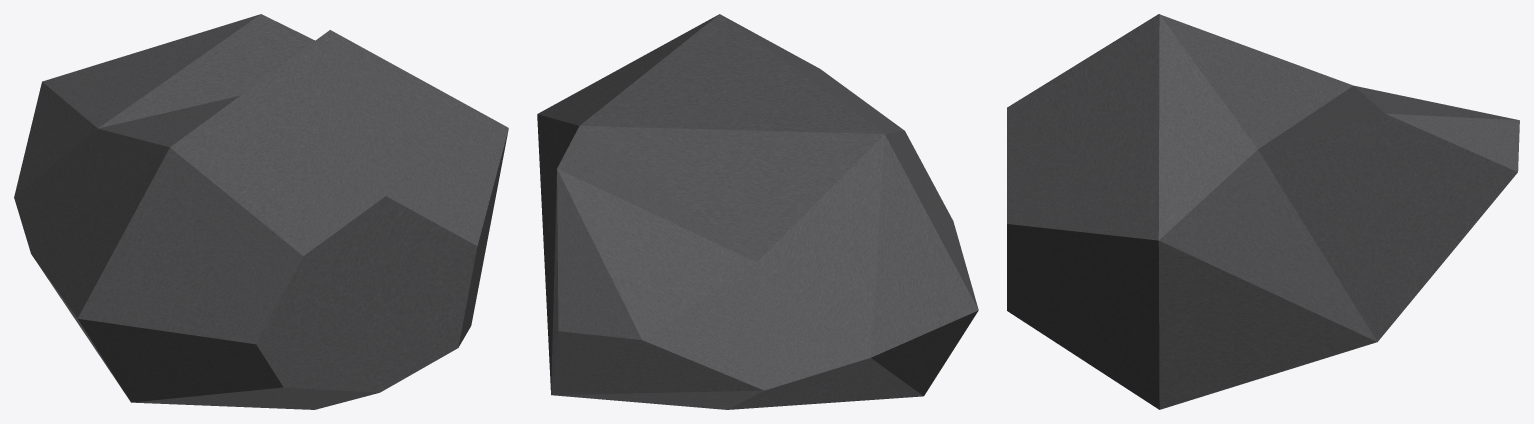
File: all_share_rock_4.FBX
3 renders of one model, left to right at view 1: azimuth 30°, elevation 25°; view 2: azimuth 150°, elevation 25°; view 3: azimuth 270°, elevation 25°, orthographic. The views are drawn at different scales.
Parts seen in each view (by area): view 1: rock_4; view 2: rock_4; view 3: rock_4.
Boxes of the visible parts, x1,y1,x2,y2 form: rock_4: (14,14,508,409); rock_4: (537,14,978,409); rock_4: (1007,14,1519,409).
Size of the model in its own units: 341 by 288 by 355.
